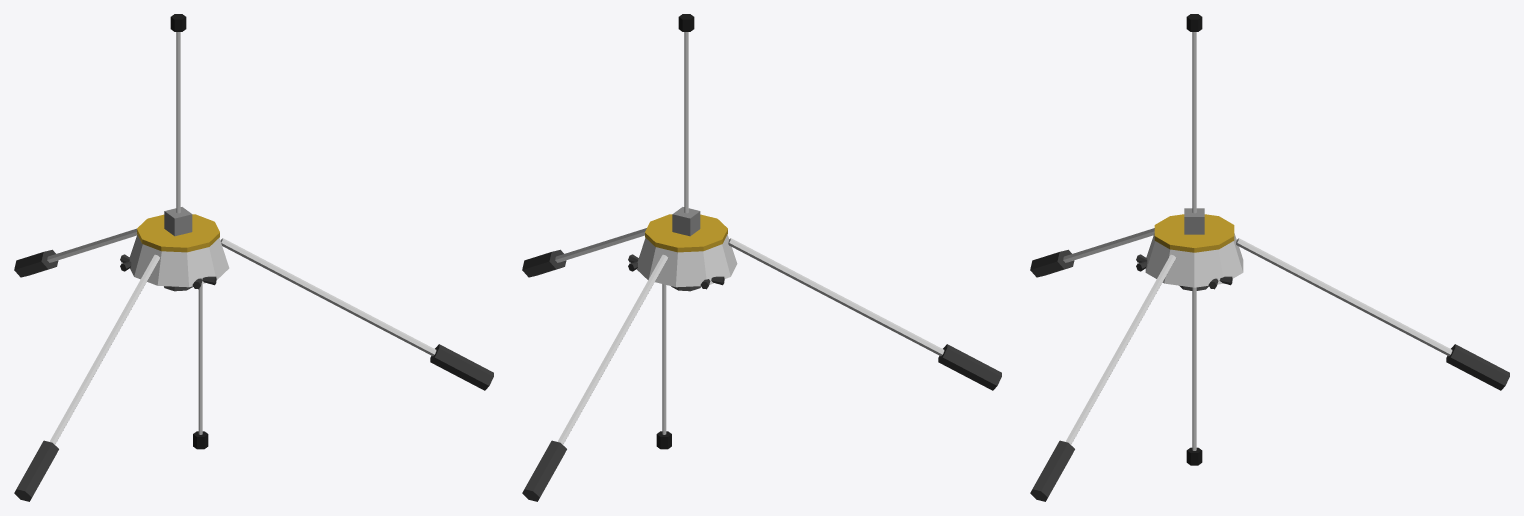
The model's file is Probe_Body.glb.
3 renders of one model, left to right at view 1: azimuth 30°, elevation 25°; view 2: azimuth 150°, elevation 25°; view 3: azimuth 270°, elevation 25°, orthographic.
Parts seen in each view (by area): view 1: Probe_Bus, Probe_Deck, Probe_Boom_3, Probe_Boom_2, Probe_RTG_3, Probe_RTG_2, Probe_MagBoom_Top, Probe_MagBoom_Bot, Probe_RTG_1, Probe_EquipmentBay, Probe_Boom_1; view 2: Probe_Bus, Probe_Deck, Probe_Boom_2, Probe_Boom_1, Probe_RTG_2, Probe_RTG_1, Probe_MagBoom_Top, Probe_MagBoom_Bot, Probe_RTG_3, Probe_Boom_3, Probe_EquipmentBay; view 3: Probe_Bus, Probe_Deck, Probe_Boom_1, Probe_Boom_3, Probe_RTG_1, Probe_RTG_3, Probe_MagBoom_Top, Probe_MagBoom_Bot, Probe_RTG_2, Probe_Boom_2, Probe_EquipmentBay.
Part boxes in pixels (box(x1,y1,x2,y2)): Probe_Bus: box(129, 235, 229, 287); Probe_Deck: box(137, 214, 219, 252); Probe_Boom_3: box(220, 238, 436, 356); Probe_Boom_2: box(49, 254, 159, 444); Probe_RTG_3: box(430, 344, 493, 390); Probe_RTG_2: box(14, 440, 58, 501); Probe_MagBoom_Top: box(176, 32, 180, 213); Probe_MagBoom_Bot: box(198, 284, 202, 434); Probe_RTG_1: box(14, 249, 58, 277); Probe_EquipmentBay: box(164, 207, 192, 236); Probe_Boom_1: box(47, 228, 137, 262); Probe_Bus: box(636, 234, 737, 287); Probe_Deck: box(645, 214, 727, 252); Probe_Boom_2: box(728, 238, 944, 356); Probe_Boom_1: box(557, 254, 667, 444); Probe_RTG_2: box(938, 344, 1001, 390); Probe_RTG_1: box(522, 440, 566, 501); Probe_MagBoom_Top: box(684, 32, 688, 213); Probe_MagBoom_Bot: box(662, 284, 666, 434); Probe_RTG_3: box(522, 249, 566, 277); Probe_Boom_3: box(555, 228, 646, 262); Probe_EquipmentBay: box(672, 207, 700, 236); Probe_Bus: box(1145, 233, 1243, 287); Probe_Deck: box(1154, 214, 1234, 252); Probe_Boom_1: box(1236, 238, 1452, 356); Probe_Boom_3: box(1065, 254, 1175, 444); Probe_RTG_1: box(1446, 344, 1509, 390); Probe_RTG_3: box(1030, 440, 1074, 501); Probe_MagBoom_Top: box(1192, 32, 1196, 213); Probe_MagBoom_Bot: box(1192, 287, 1196, 450); Probe_RTG_2: box(1030, 249, 1074, 277); Probe_Boom_2: box(1063, 228, 1154, 262); Probe_EquipmentBay: box(1184, 208, 1204, 234).
Bounding box in the file's own units: 3.23 × 2.81 × 2.81.
